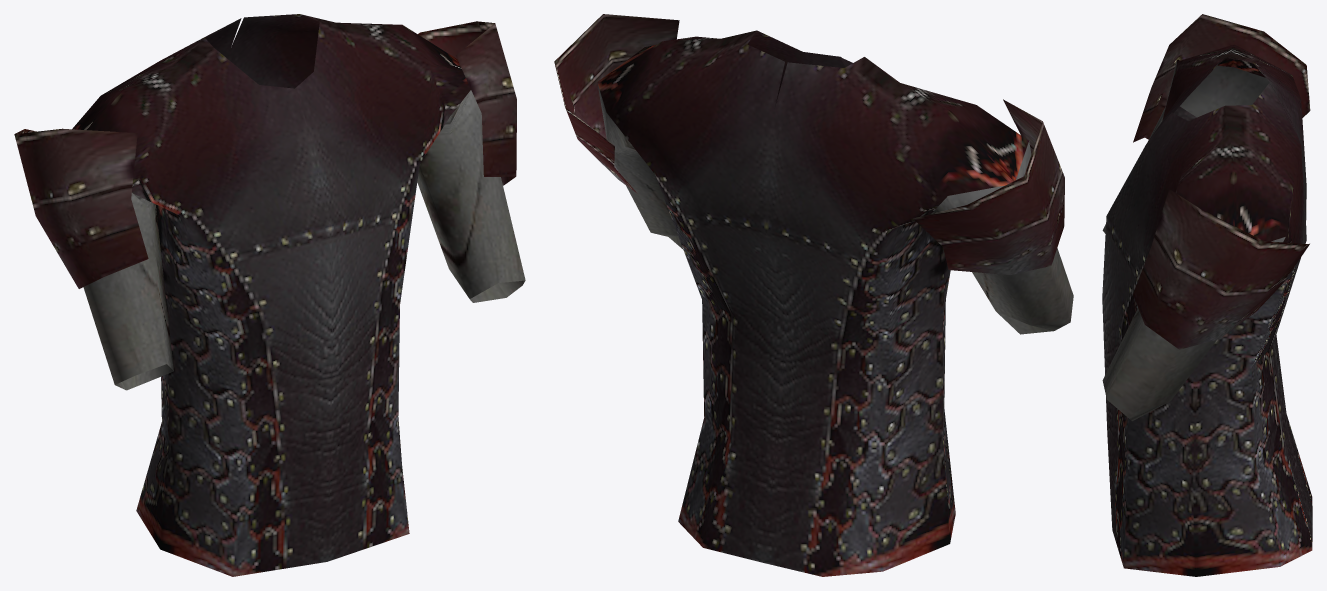
Rendered from Leather Armor Chest.fbx.
3 views of the same model, side by side, from view 1: azimuth 30°, elevation 25°; view 2: azimuth 150°, elevation 25°; view 3: azimuth 270°, elevation 25° (orthographic). The views are drawn at different scales.
Visible parts, largest first — view 1: Leather Chest; view 2: Leather Chest; view 3: Leather Chest.
Boxes of the visible parts, box(x1,y1,x2,y2) form: Leather Chest: box(14, 14, 525, 576); Leather Chest: box(554, 14, 1073, 576); Leather Chest: box(1102, 14, 1312, 576).
Bounding box in the file's own units: 0.5714 × 0.5649 × 0.2404.
